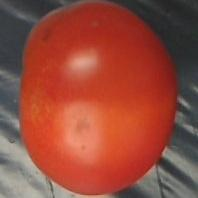unripe: (17, 1, 183, 195)
